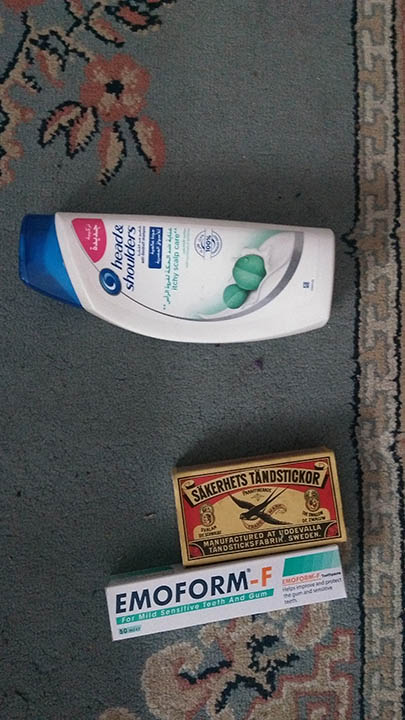Toothpaste-F 1.5$: (94, 552, 343, 631)
match-sticks .90$: (168, 448, 352, 545)
shampoo-green 4.5$: (13, 210, 340, 344)
